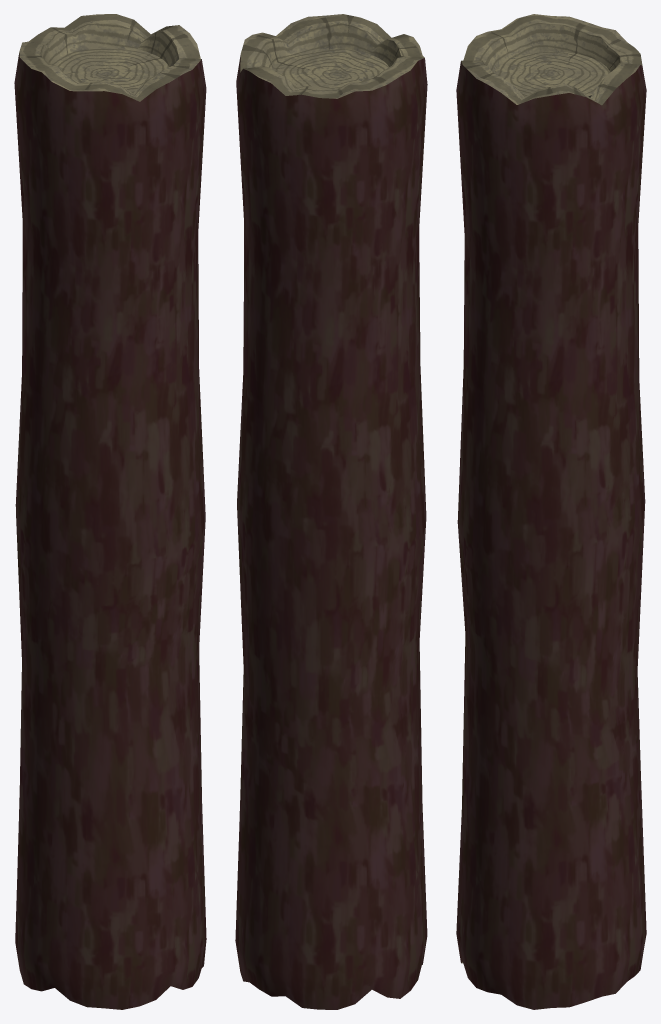
Rendered from AO Log.fbx.
3 renders of one model, left to right at view 1: azimuth 30°, elevation 25°; view 2: azimuth 150°, elevation 25°; view 3: azimuth 270°, elevation 25°, orthographic.
Visible parts, largest first — view 1: Log_LOD0; view 2: Log_LOD0; view 3: Log_LOD0.
Part boxes in pixels (x1,y1,x2,y2): Log_LOD0: (14, 14, 206, 1009); Log_LOD0: (235, 14, 427, 1009); Log_LOD0: (456, 14, 646, 1009).
Size of what is drawn, in the model's own units: 228 by 1215 by 227.
